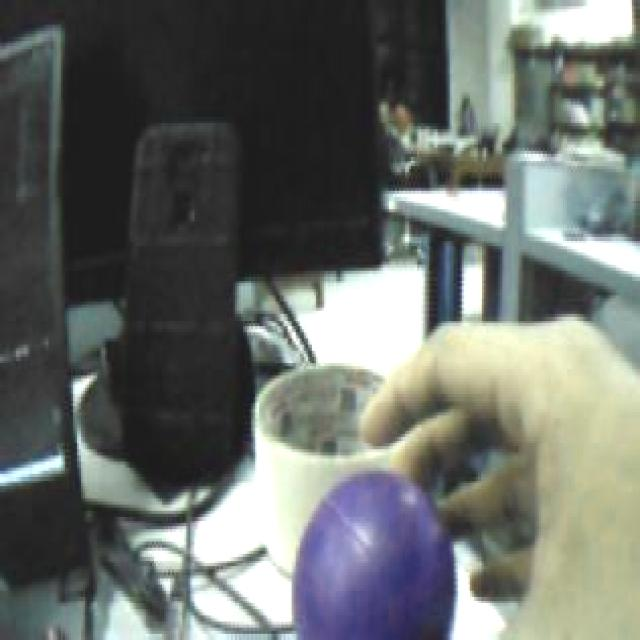BallPurple: (290, 469, 455, 640)
